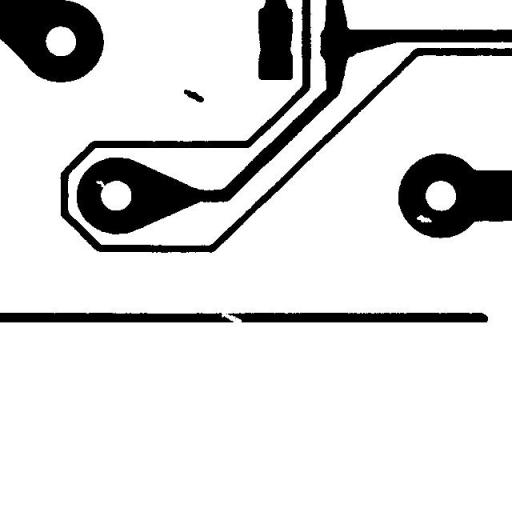copper: (176, 82, 211, 110)
mousebite: (88, 173, 114, 196)
open: (212, 301, 249, 330)
pin-hole: (409, 207, 439, 230)
